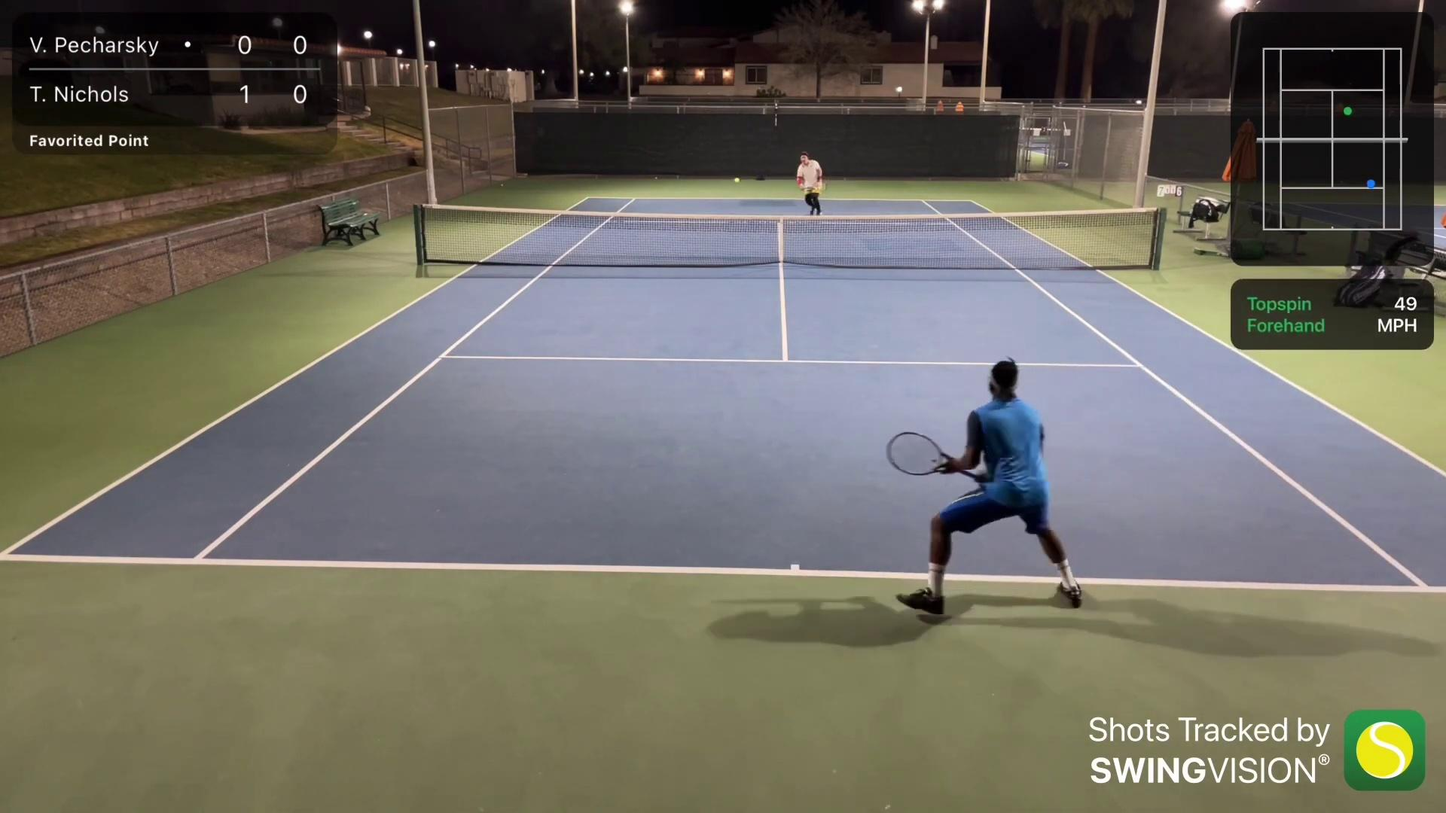ball: (497, 180, 507, 189), (732, 176, 741, 184)
